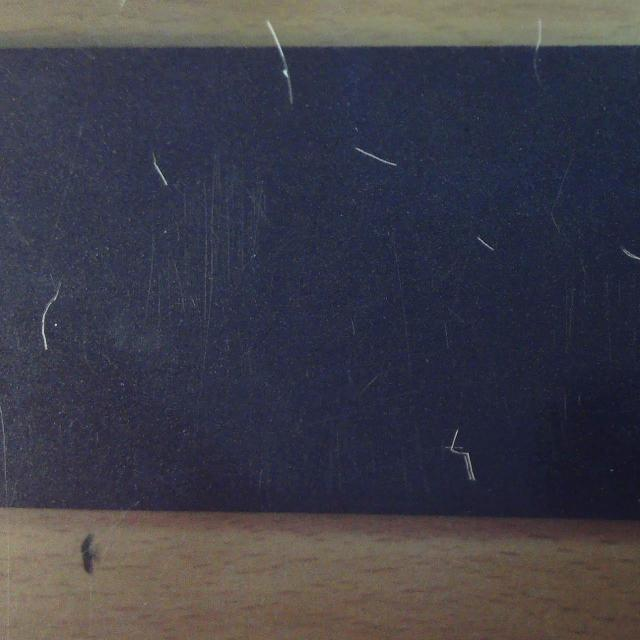defect: (447, 429, 478, 484), (40, 283, 60, 350), (276, 43, 294, 105), (357, 147, 399, 169), (530, 45, 548, 89), (151, 149, 169, 186), (474, 235, 497, 253), (619, 245, 640, 262)
